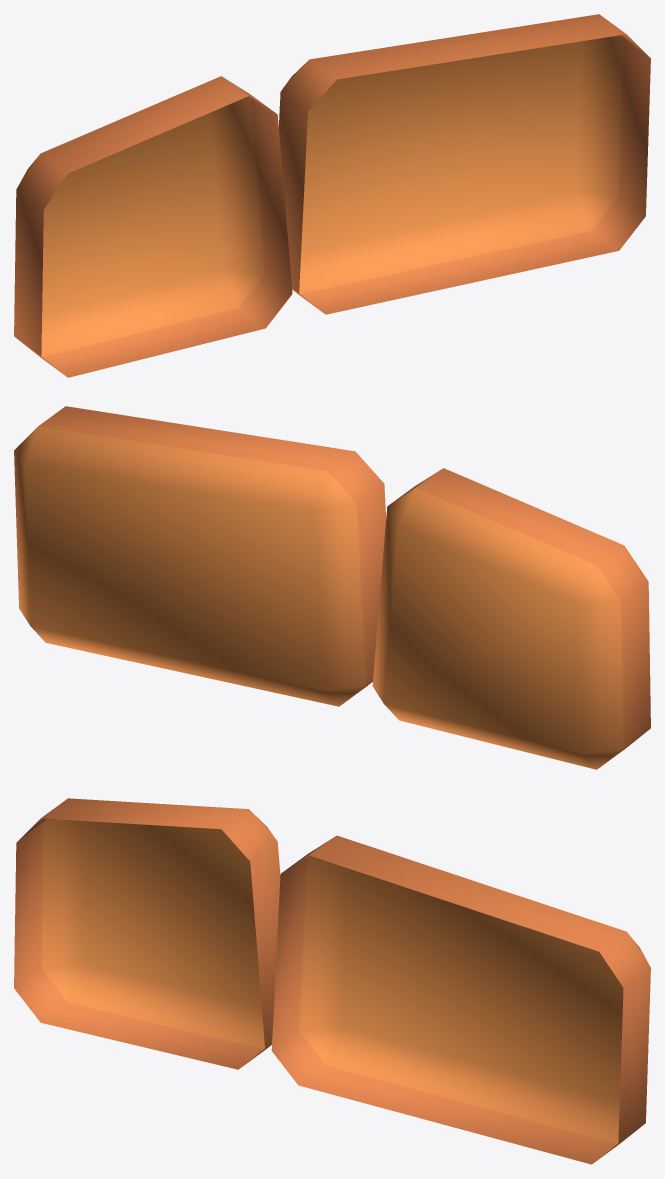
Rendered from Rock Step 03.FBX.
The picture shows the model from 3 angles, top to bottom: view 1: azimuth 30°, elevation 25°; view 2: azimuth 150°, elevation 25°; view 3: azimuth 330°, elevation 25°; orthographic projection.
Visible parts, largest first — view 1: Rock Step 03; view 2: Rock Step 03; view 3: Rock Step 03.
Boxes of the visible parts, box(x1,y1,x2,y2) form: Rock Step 03: box(14, 14, 650, 377); Rock Step 03: box(14, 406, 650, 769); Rock Step 03: box(14, 798, 650, 1164).
Bounding box in the file's own units: 152 × 58.2 × 18.46.
1 material, 1 textured.
